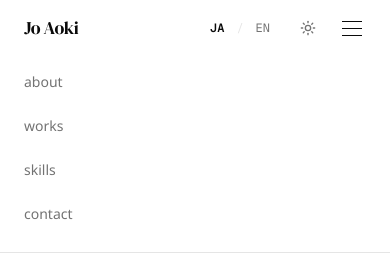
Test: Header ハンバーガーメニュー › クリックでメニューが開き aria-expanded=true になる
Click the button named "メニューを開く": (352, 28) [338,16,366,40]
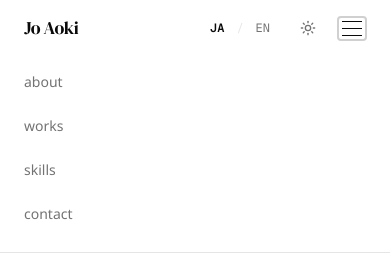
Result: the button named "メニューを閉じる" is expanded at [338,16,366,40]
